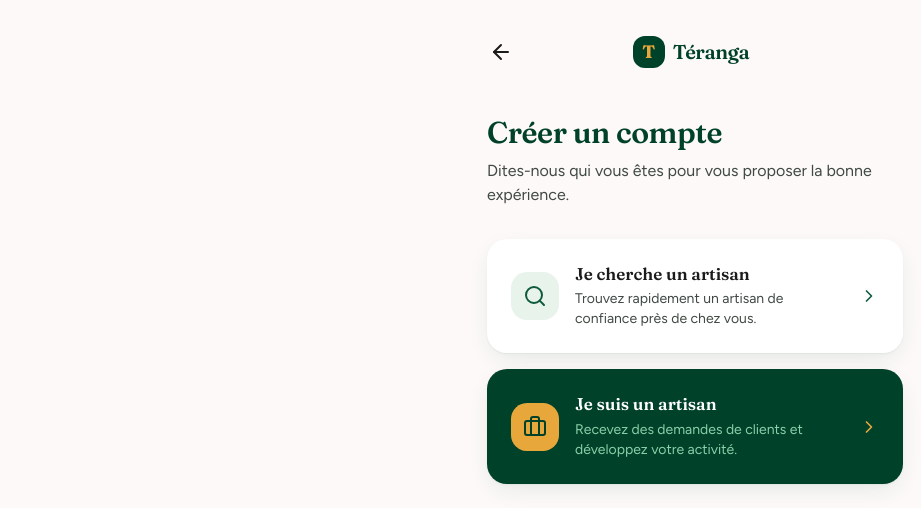
Scenario: RoleSelectScreen › carries intent=signup and role=client forward when picking "Je cherche un artisan"
Click the button "Je cherche un artisan" at (695, 296), box [487,238,903,353]
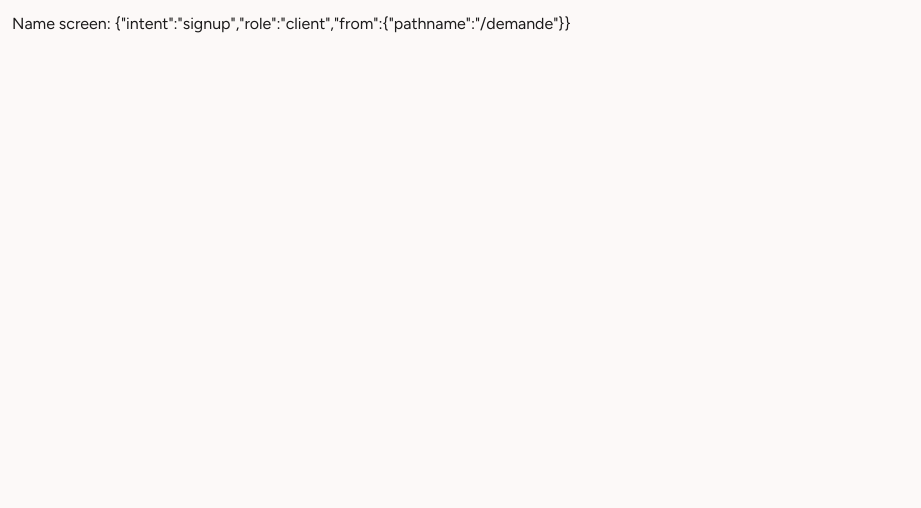
Expected: the text "Name screen: {\"intent\":\"signup\",\"role\":\"client\",\"from\":{\"pathname\":\"/demande\"}}" is shown, [12,14,571,33]
